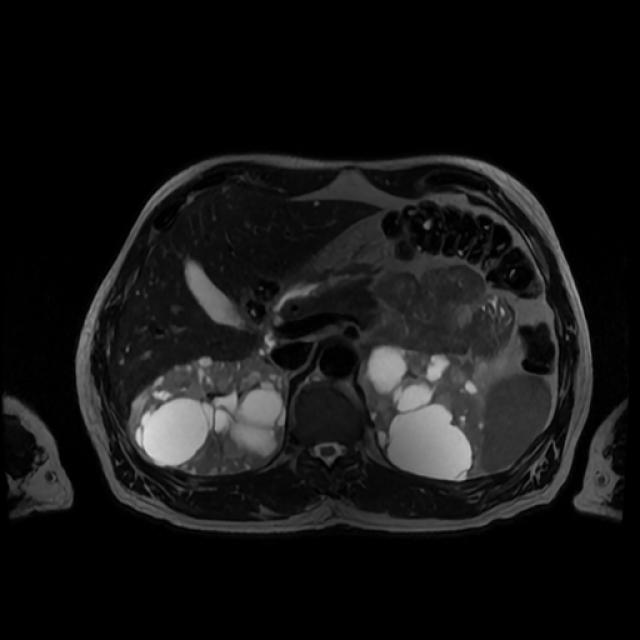sag: (136, 352, 290, 475)
sol: (367, 346, 486, 480)
